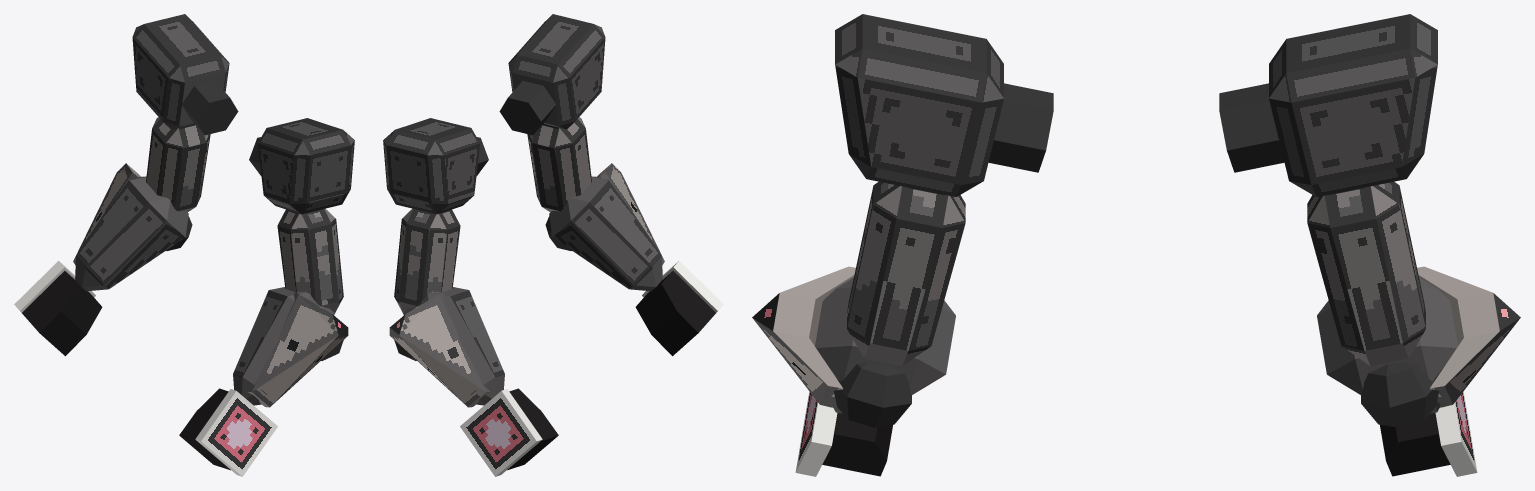
Rendered from StandardArms.gltf.
3 renders of one model, left to right at view 1: azimuth 30°, elevation 25°; view 2: azimuth 150°, elevation 25°; view 3: azimuth 270°, elevation 25°, orthographic. The views are drawn at different scales.
Parts seen in each view (by area): view 1: StandardShoulder2, StandardForeArm, StandardShoulder, StandardBicep2, StandardBackGuard2, StandardBicep, StandardHandGuard2, StandardHand, StandardForeArm2, StandardShoulderConnector, StandardHand2, StandardFrontGuard (+1 smaller); view 2: StandardShoulder, StandardForeArm2, StandardShoulder2, StandardBicep, StandardFrontGuard, StandardBicep2, StandardHandGuard, StandardHand2, StandardForeArm, StandardShoulderConnector2, StandardHand, StandardBackGuard2 (+1 smaller); view 3: StandardShoulder, StandardShoulder2, StandardBicep, StandardBicep2, StandardFrontGuard, StandardBackGuard2, StandardForeArm, StandardForeArm2, StandardShoulderConnector, StandardShoulderConnector2, StandardElbowJoint, StandardElbowJoint2 (+4 smaller).
Part boxes in pixels (x1=…): StandardShoulder2: x1=258, y1=118, x2=354, y2=214; StandardForeArm: x1=75, y1=176, x2=188, y2=291; StandardShoulder: x1=132, y1=14, x2=229, y2=129; StandardBicep2: x1=277, y1=208, x2=343, y2=314; StandardBackGuard2: x1=247, y1=292, x2=348, y2=407; StandardBicep: x1=146, y1=117, x2=210, y2=212; StandardHandGuard2: x1=195, y1=389, x2=277, y2=476; StandardHand: x1=22, y1=271, x2=102, y2=356; StandardForeArm2: x1=233, y1=287, x2=334, y2=405; StandardShoulderConnector: x1=181, y1=81, x2=238, y2=135; StandardHand2: x1=179, y1=388, x2=230, y2=470; StandardFrontGuard: x1=73, y1=163, x2=140, y2=264; StandardShoulder: x1=383, y1=118, x2=479, y2=214; StandardForeArm2: x1=549, y1=176, x2=662, y2=291; StandardShoulder2: x1=508, y1=14, x2=605, y2=129; StandardBicep: x1=394, y1=208, x2=460, y2=314; StandardFrontGuard: x1=389, y1=292, x2=490, y2=407; StandardBicep2: x1=527, y1=117, x2=591, y2=212; StandardHandGuard: x1=460, y1=389, x2=542, y2=476; StandardHand2: x1=635, y1=271, x2=715, y2=356; StandardForeArm: x1=403, y1=287, x2=504, y2=405; StandardShoulderConnector2: x1=499, y1=81, x2=556, y2=135; StandardHand: x1=507, y1=388, x2=558, y2=470; StandardBackGuard2: x1=597, y1=163, x2=664, y2=264; StandardShoulder: x1=1269, y1=14, x2=1437, y2=196; StandardShoulder2: x1=835, y1=14, x2=1003, y2=196; StandardBicep: x1=1307, y1=181, x2=1425, y2=365; StandardBicep2: x1=847, y1=181, x2=965, y2=365; StandardFrontGuard: x1=1417, y1=266, x2=1520, y2=407; StandardBackGuard2: x1=752, y1=266, x2=855, y2=407; StandardForeArm: x1=1317, y1=277, x2=1457, y2=413; StandardForeArm2: x1=815, y1=277, x2=955, y2=413; StandardShoulderConnector: x1=1219, y1=83, x2=1284, y2=172; StandardShoulderConnector2: x1=988, y1=83, x2=1053, y2=172; StandardElbowJoint: x1=1361, y1=362, x2=1439, y2=427; StandardElbowJoint2: x1=833, y1=362, x2=911, y2=427.
Bounding box in the file's own units: 0.5952 × 1.05 × 1.37.
1 material, 1 textured.
